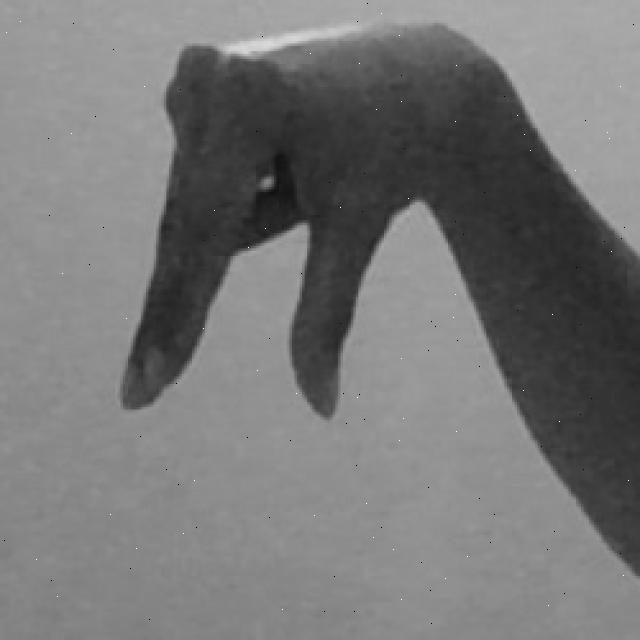Q: (115, 15, 640, 584)
